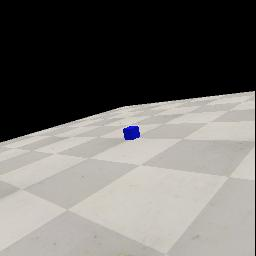box: (123, 126, 140, 140)
